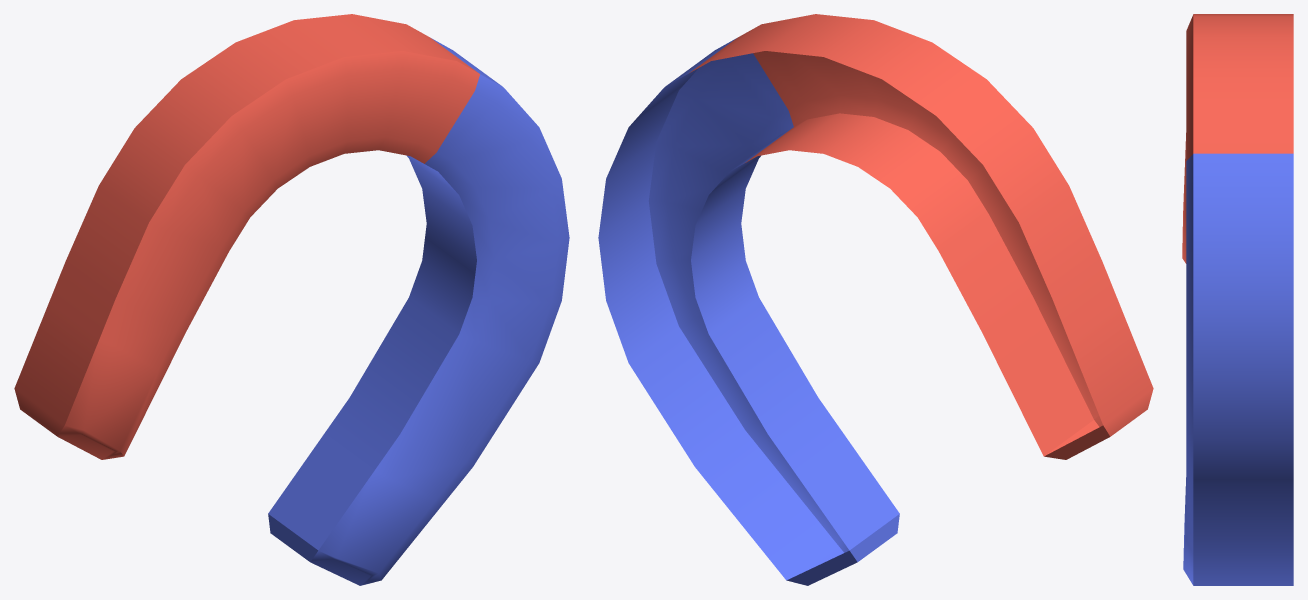
The model's file is Magnet Icon Multi.fbx.
3 renders of one model, left to right at view 1: azimuth 30°, elevation 25°; view 2: azimuth 150°, elevation 25°; view 3: azimuth 270°, elevation 25°, orthographic.
Visible parts, largest first — view 1: Magnet Icon; view 2: Magnet Icon; view 3: Magnet Icon.
Boxes of the visible parts, bbox=[...] form: Magnet Icon: bbox=[14, 14, 569, 585]; Magnet Icon: bbox=[598, 14, 1153, 585]; Magnet Icon: bbox=[1182, 14, 1293, 585].
Size of the model in its own units: 0.5089 by 0.5174 by 0.0977.
